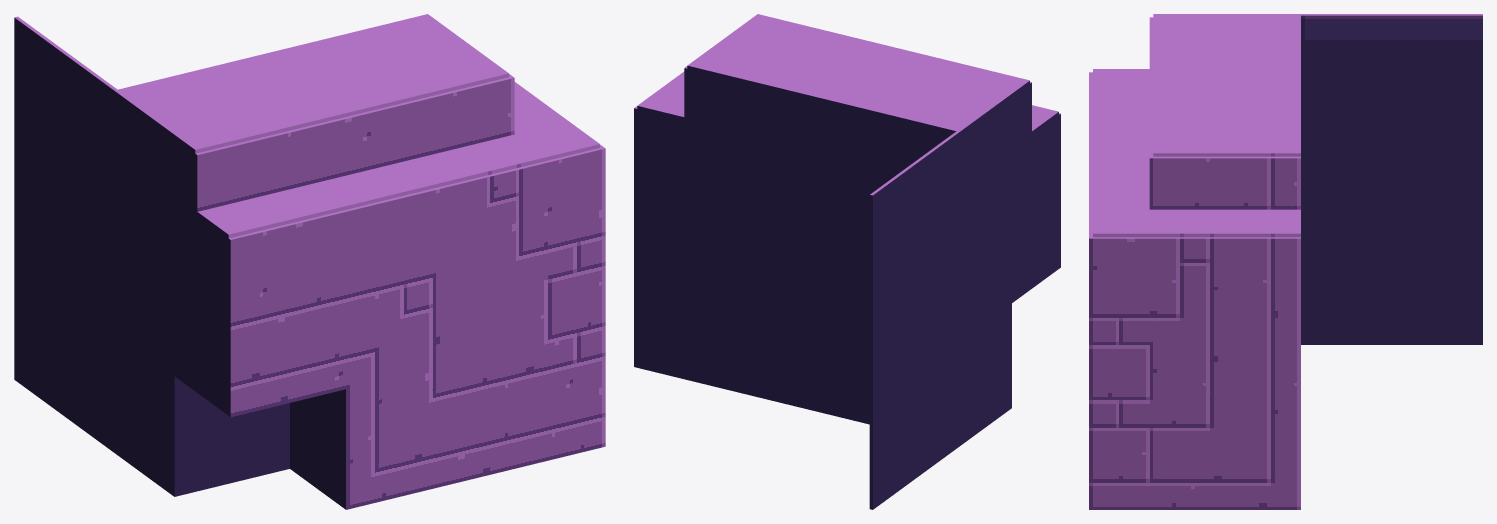
Rendered from obs_dome_cao.fezao.glb.
3 views of the same model, side by side, from view 1: azimuth 30°, elevation 25°; view 2: azimuth 150°, elevation 25°; view 3: azimuth 270°, elevation 25° (orthographic). The views are drawn at different scales.
Parts seen in each view (by area): view 1: OBS_DOME_CAO; view 2: OBS_DOME_CAO; view 3: OBS_DOME_CAO.
Part boxes in pixels (x1,y1,x2,y2): OBS_DOME_CAO: (14,14,605,509); OBS_DOME_CAO: (634,14,1060,509); OBS_DOME_CAO: (1089,14,1482,509).
Size of the model in its own units: 6.5 by 6 by 6.5.
Materials: 1 (1 with a texture image).
